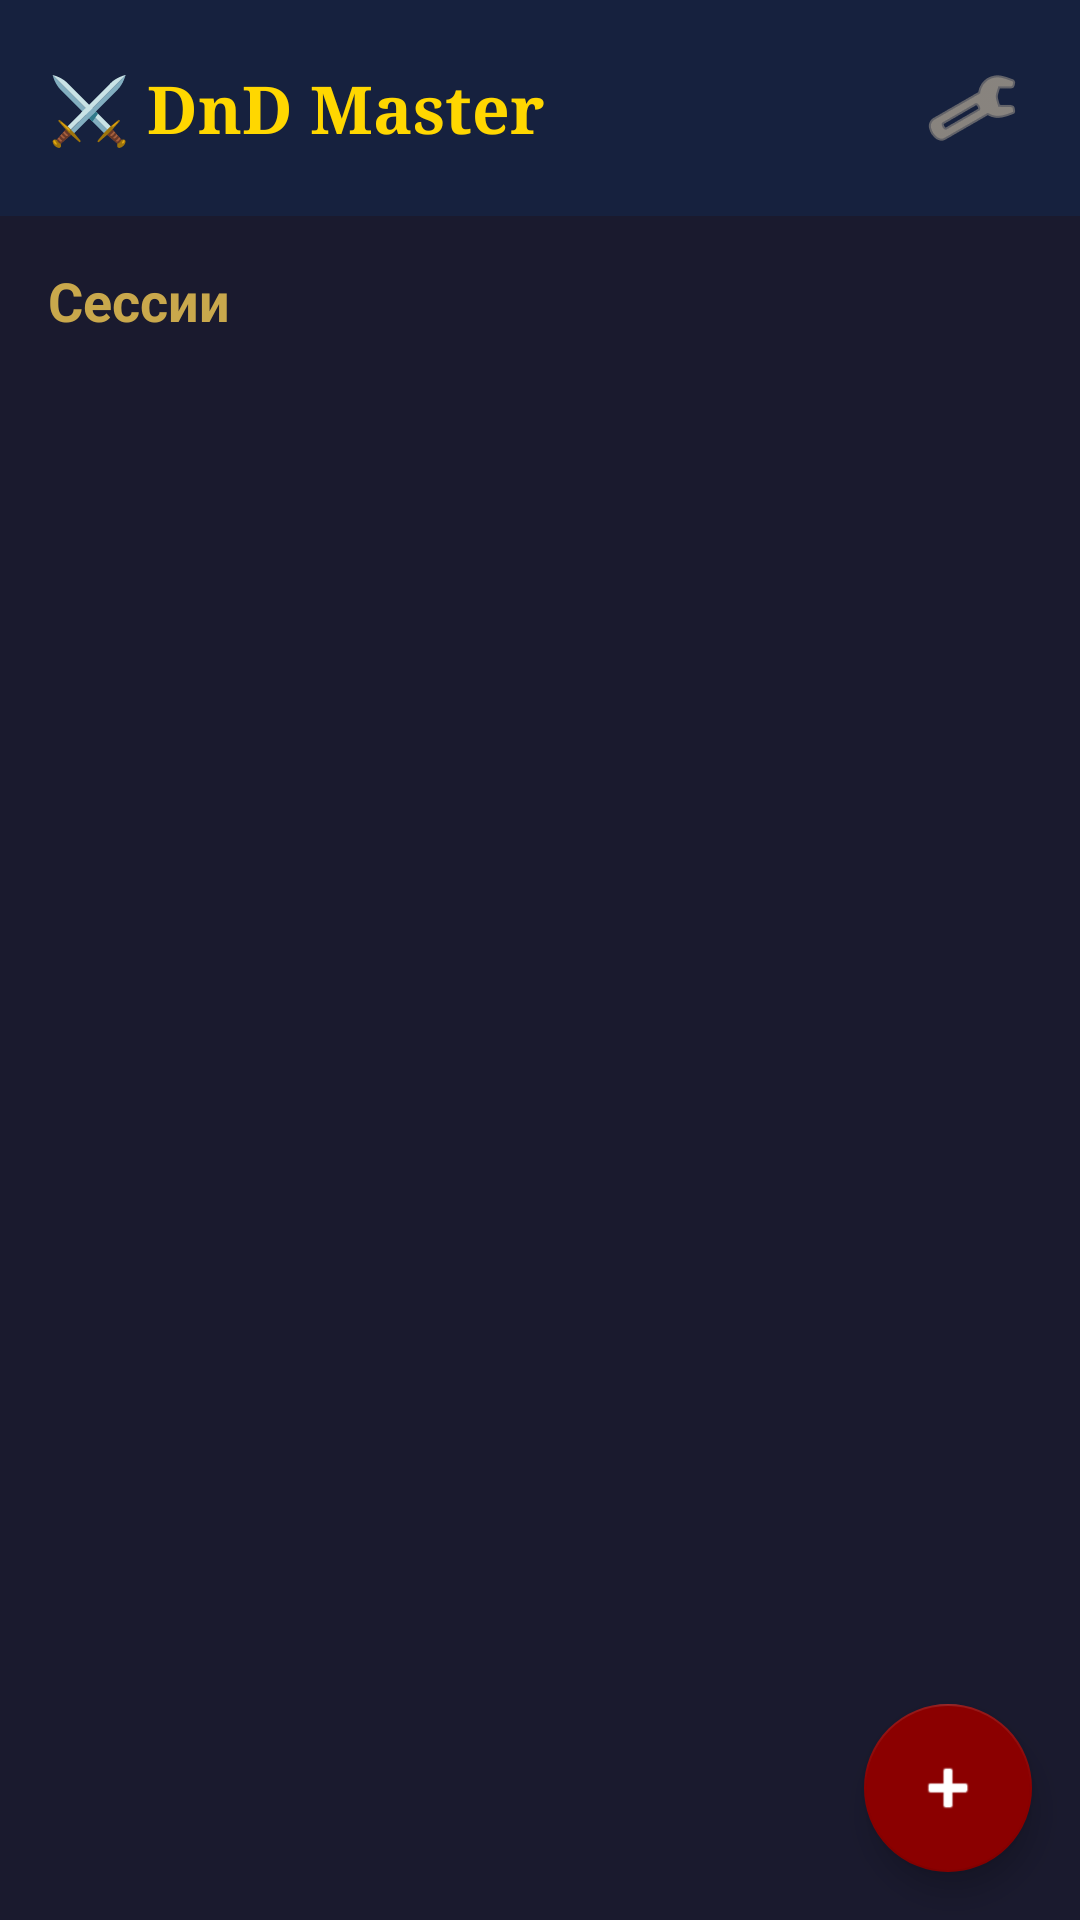

Icon bounding boxes for this 1080*1920 phone screenshot, format (x1, y1, x2, y2):
add: (864, 1704, 1032, 1872)
manage: (929, 75, 1015, 141)
